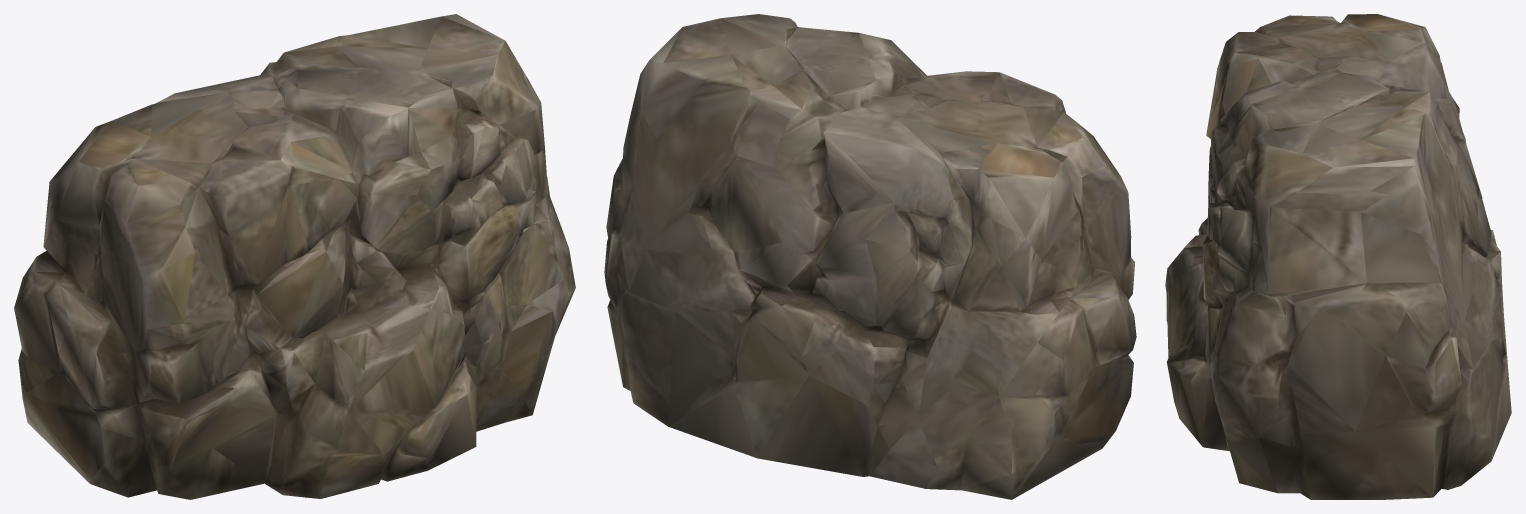
The model's file is penasco.glb.
3 renders of one model, left to right at view 1: azimuth 30°, elevation 25°; view 2: azimuth 150°, elevation 25°; view 3: azimuth 270°, elevation 25°, orthographic. The views are drawn at different scales.
Parts seen in each view (by area): view 1: Mesh_0; view 2: Mesh_0; view 3: Mesh_0.
Part boxes in pixels (x1=…): Mesh_0: x1=14, y1=14, x2=575, y2=499; Mesh_0: x1=604, y1=14, x2=1136, y2=499; Mesh_0: x1=1165, y1=14, x2=1511, y2=499.
Bounding box in the file's own units: 1.9 × 1.3 × 1.24.
Materials: 1 (1 with a texture image).
